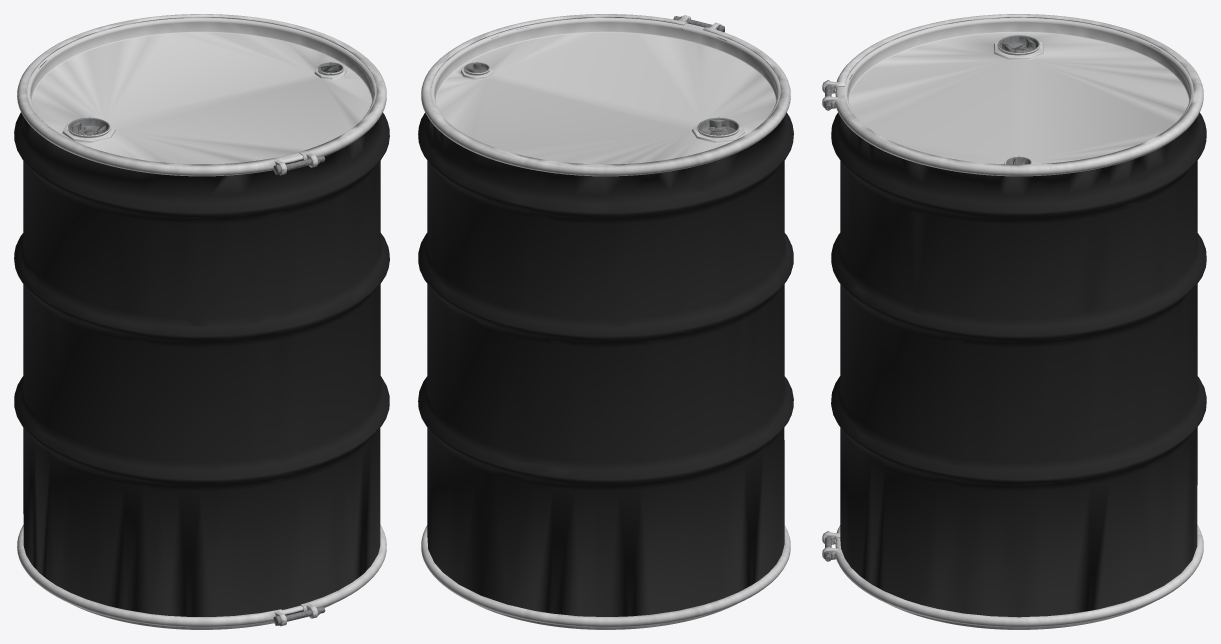
The model's file is drum_steel.glb.
The picture shows the model from 3 angles, left to right: view 1: azimuth 30°, elevation 25°; view 2: azimuth 150°, elevation 25°; view 3: azimuth 270°, elevation 25°; orthographic projection.
Parts seen in each view (by area): view 1: sm_drum_a01_mesh_00, sm_lid_a01_mesh_00 (×2); view 2: sm_drum_a01_mesh_00, sm_lid_a01_mesh_00 (×2); view 3: sm_drum_a01_mesh_00, sm_lid_a01_mesh_00 (×2).
Boxes of the visible parts, x1=… form: sm_drum_a01_mesh_00: x1=14, y1=60, x2=389, y2=616; sm_lid_a01_mesh_00 (×2): x1=17, y1=14, x2=386, y2=629; sm_drum_a01_mesh_00: x1=418, y1=27, x2=793, y2=616; sm_lid_a01_mesh_00 (×2): x1=421, y1=14, x2=790, y2=629; sm_drum_a01_mesh_00: x1=831, y1=45, x2=1206, y2=617; sm_lid_a01_mesh_00 (×2): x1=822, y1=14, x2=1203, y2=629.
Bounding box in the file's own units: 0.6417 × 0.8826 × 0.6569.
Materials: 4 (2 with a texture image).
